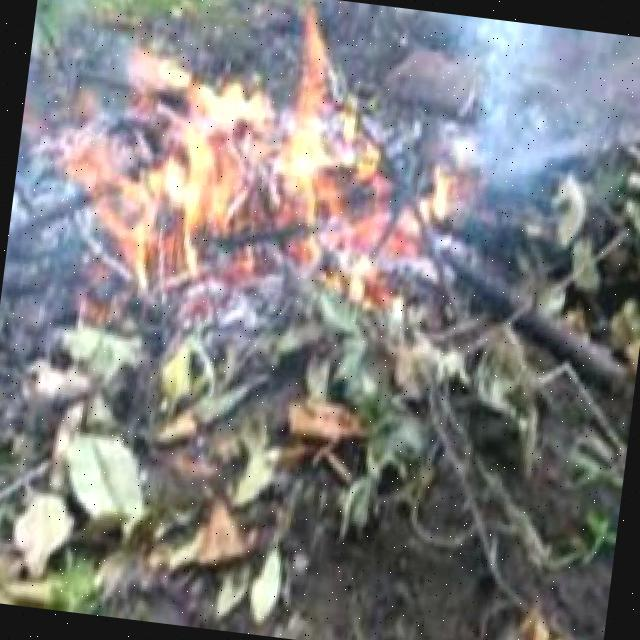Fire: (62, 8, 458, 299)
